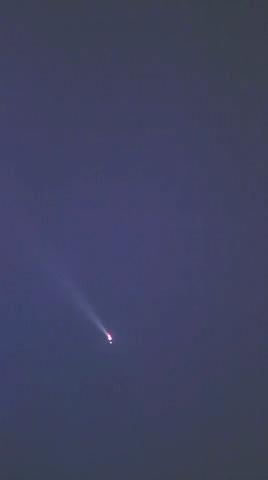Plane: (66, 281, 124, 360)
